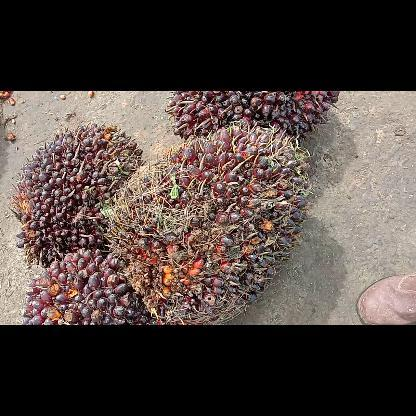Kurang masak: (104, 122, 312, 324), (10, 121, 141, 267), (20, 248, 158, 324), (166, 91, 338, 141)
